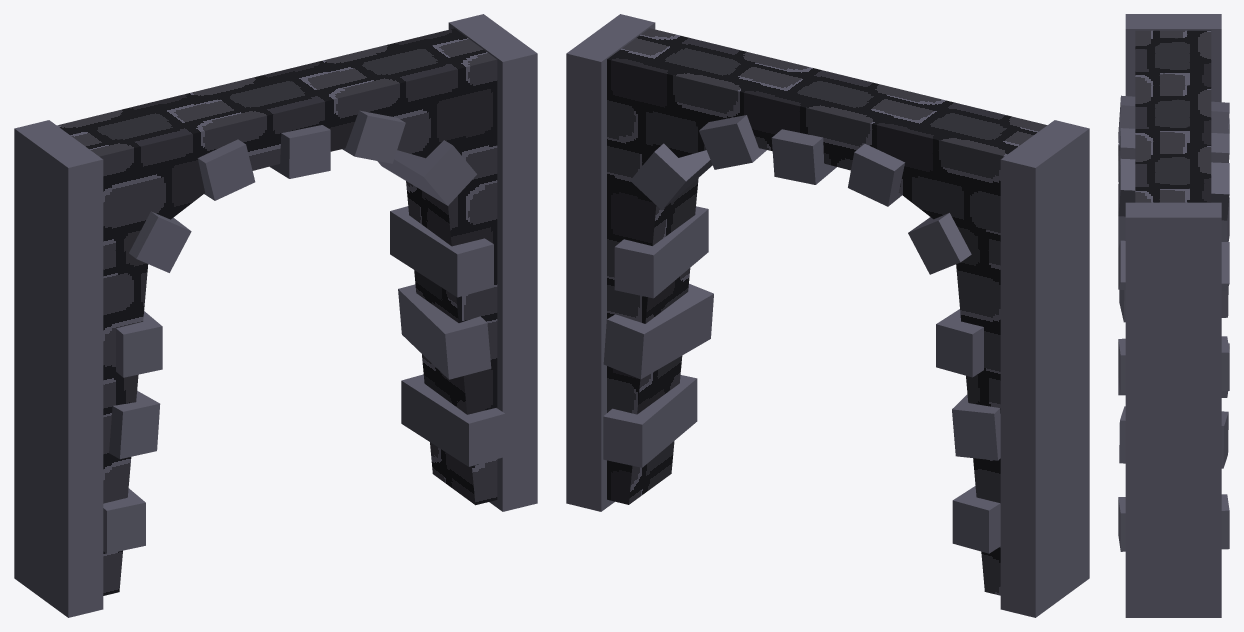
File: ArcWay.fbx
The picture shows the model from 3 angles, left to right: view 1: azimuth 30°, elevation 25°; view 2: azimuth 150°, elevation 25°; view 3: azimuth 270°, elevation 25°; orthographic projection. The views are drawn at different scales.
Parts seen in each view (by area): view 1: SeamHider, ArcWay, Wall.002; view 2: SeamHider, ArcWay, Wall.002; view 3: SeamHider, ArcWay, Wall.002.
Part boxes in pixels (<box>): SeamHider: <box>14,14,537,617</box>; ArcWay: <box>57,28,497,595</box>; Wall.002: <box>103,110,505,553</box>; SeamHider: <box>566,14,1089,617</box>; ArcWay: <box>607,28,1047,595</box>; Wall.002: <box>603,115,1000,553</box>; SeamHider: <box>1125,14,1221,617</box>; ArcWay: <box>1135,30,1211,202</box>; Wall.002: <box>1118,95,1229,551</box>.
Bounding box in the file's own units: 446 × 409 × 103.
